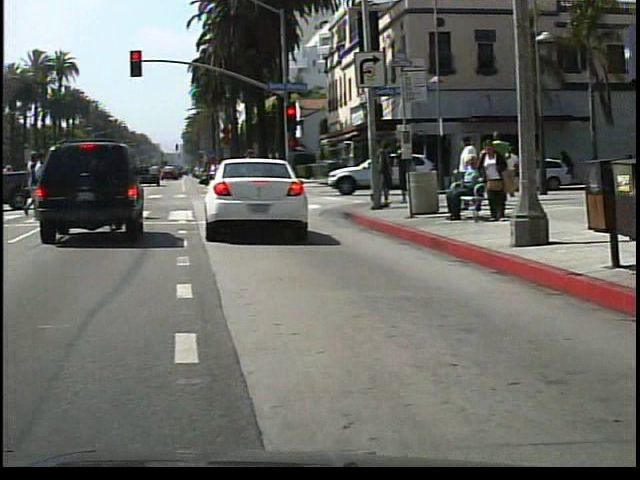person: (482, 136, 519, 228), (448, 156, 491, 220), (239, 143, 274, 217)
